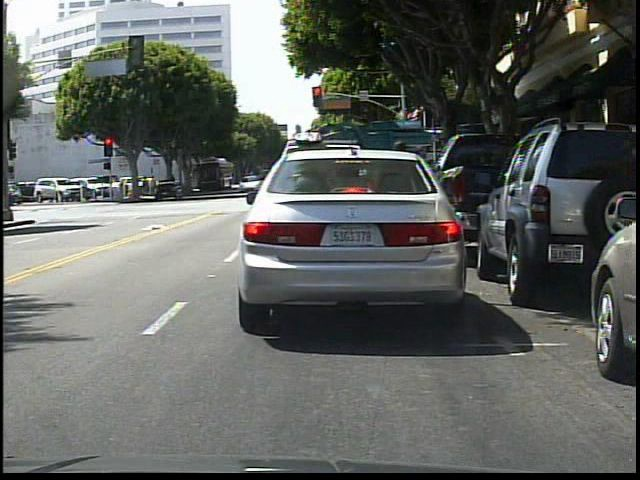person: (383, 138, 423, 266)
